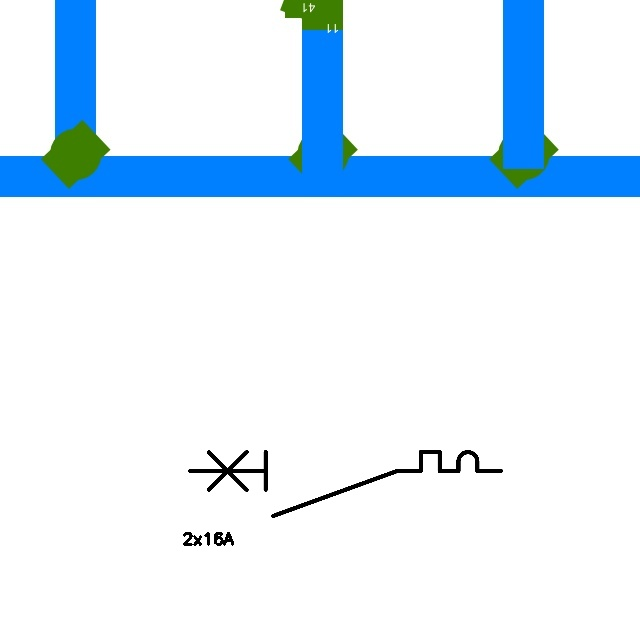interruptor_termomagnetico: (182, 444, 509, 524)
